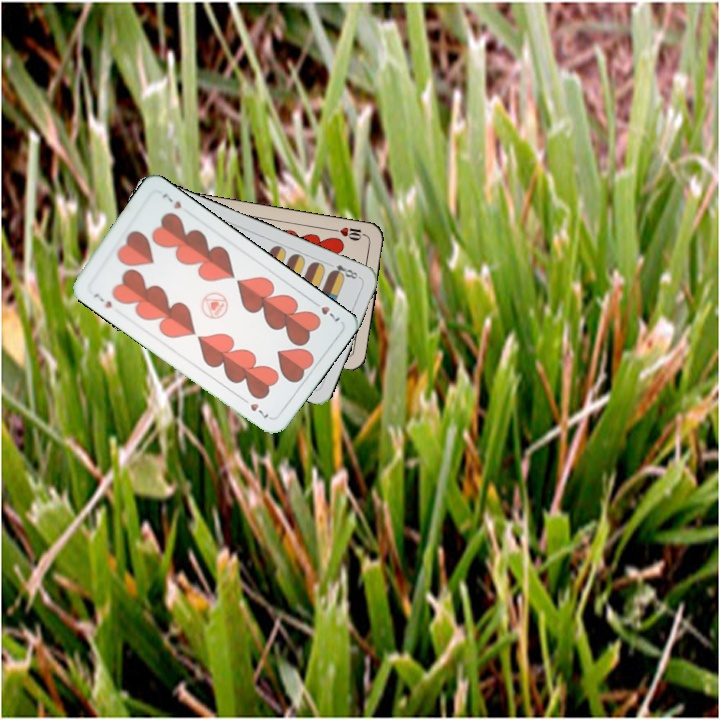E8: (326, 260, 363, 282)
H10: (329, 223, 369, 243)
H7: (308, 296, 342, 324), (89, 289, 114, 311)
